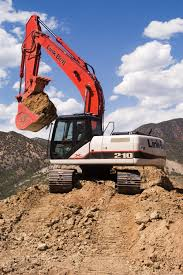excavator: (20, 14, 168, 193)
